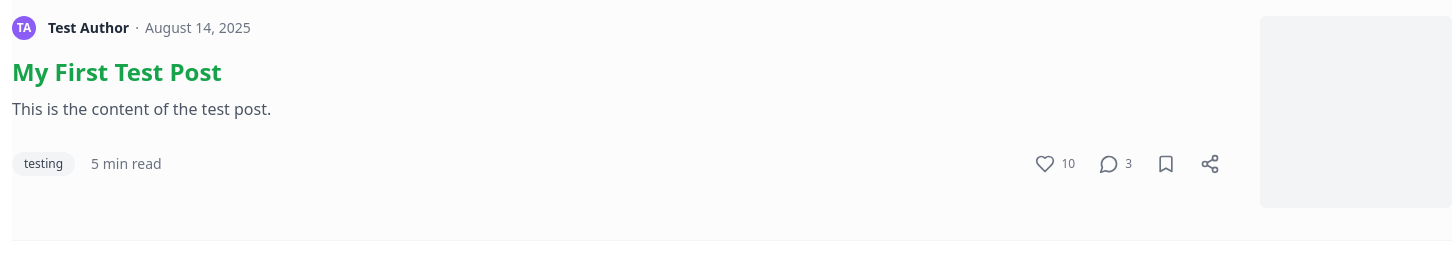
Scenario: BlogCard › should optimistically update the clap count when the clap button is clicked
This screenshot has width=1452, height=258.
Expected: the text "10" is shown, [1061,156,1075,172]
Click the button named "Clap for this post" at (1055, 164), box [1027,146,1083,182]
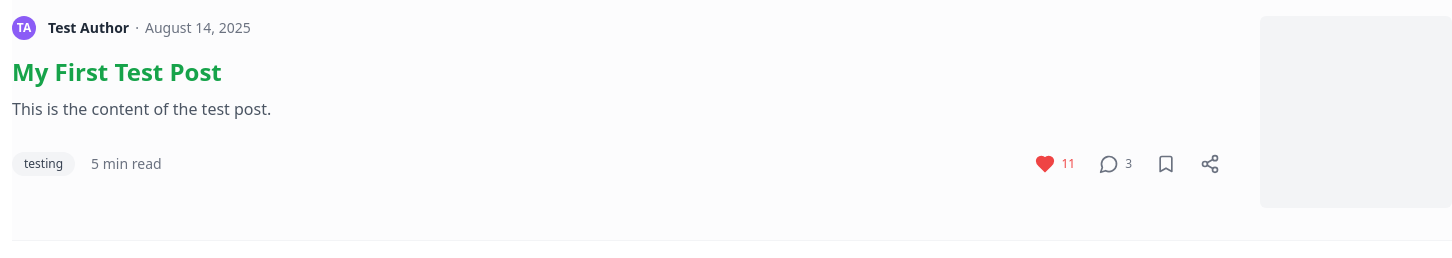
Now the text "11" is shown, box [1061,156,1075,172]
